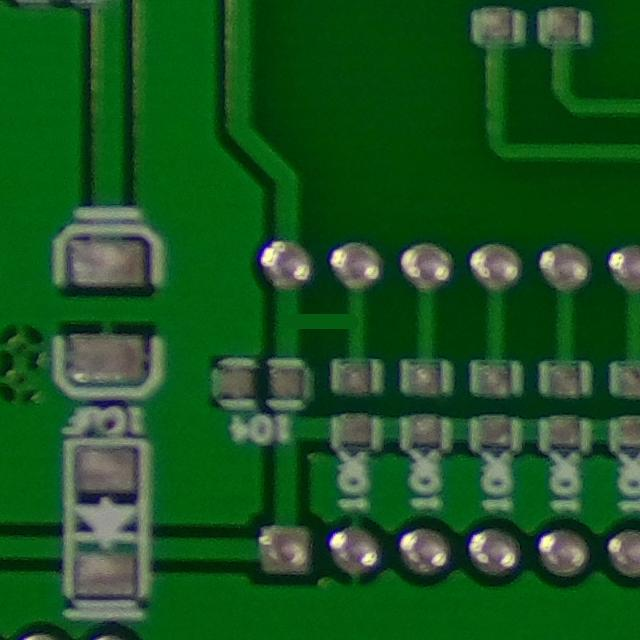short: (268, 298, 373, 342)
